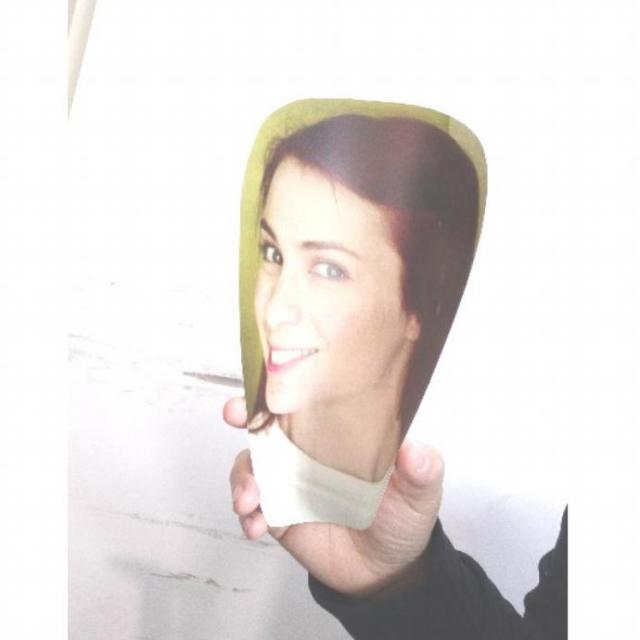photo: (197, 90, 493, 598)
